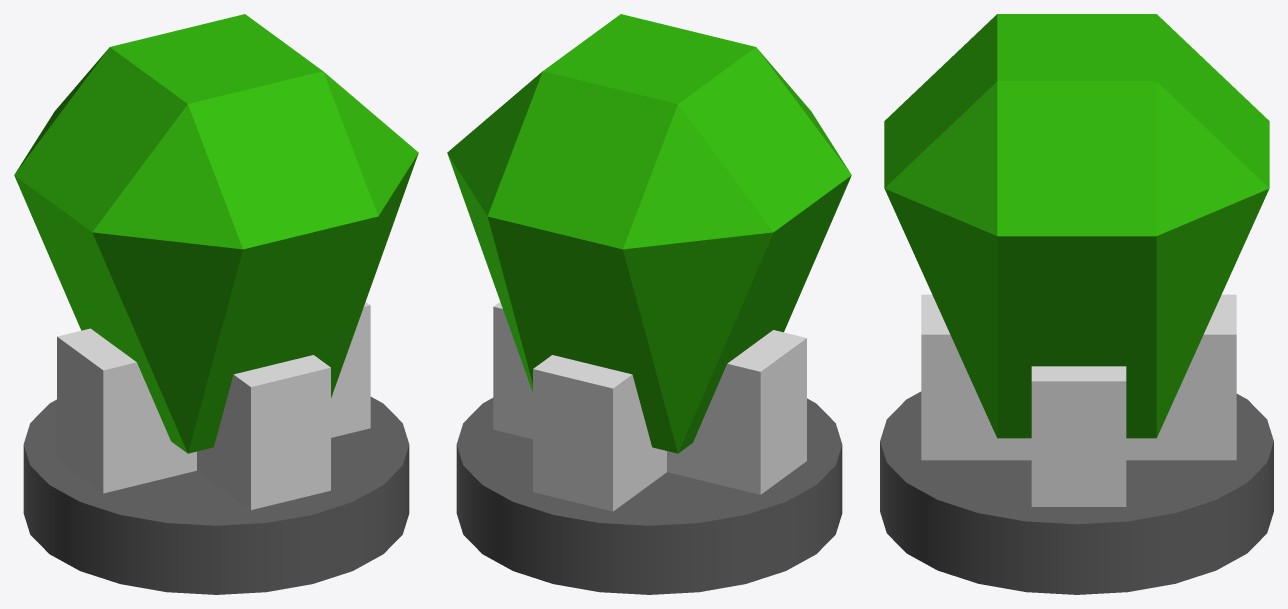
File: gems_emerald_5.obj
The picture shows the model from 3 angles, left to right: view 1: azimuth 30°, elevation 25°; view 2: azimuth 150°, elevation 25°; view 3: azimuth 270°, elevation 25°; orthographic projection. The views are drawn at different scales.
Visible parts, largest first — view 1: mergedBlocks; view 2: mergedBlocks; view 3: mergedBlocks.
Boxes of the visible parts, x1=… form: mergedBlocks: x1=14, y1=14, x2=418, y2=594; mergedBlocks: x1=447, y1=14, x2=851, y2=594; mergedBlocks: x1=880, y1=14, x2=1273, y2=594.
Size of the model in its own units: 1 by 1.3 by 1.
